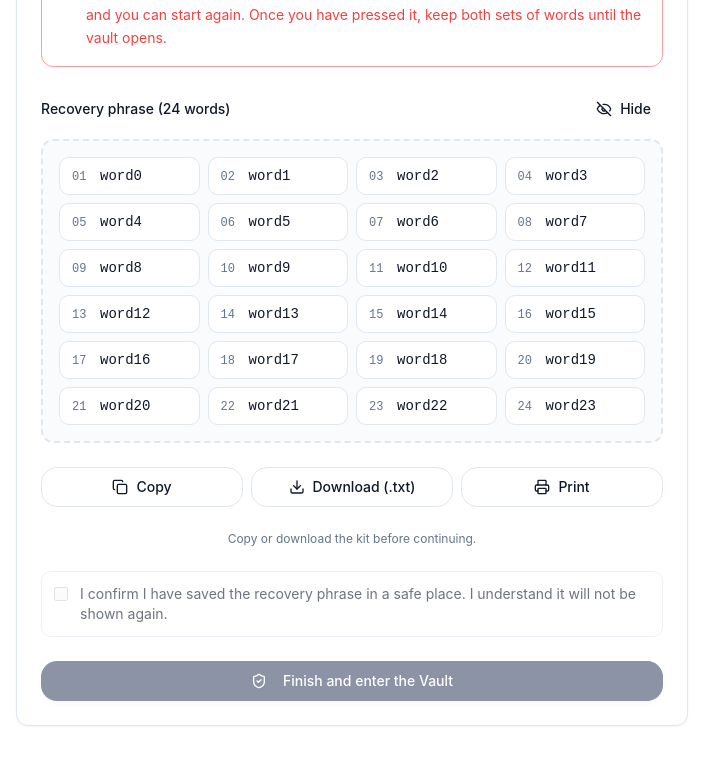
Test: a recovery whose save cannot be confirmed › no longer says that nothing changes and the entered words still work
The image size is (705, 774).
(page scrolled)
Click the button "Copy".
click(142, 486)  # box [41,466,243,506]
(page scrolled)
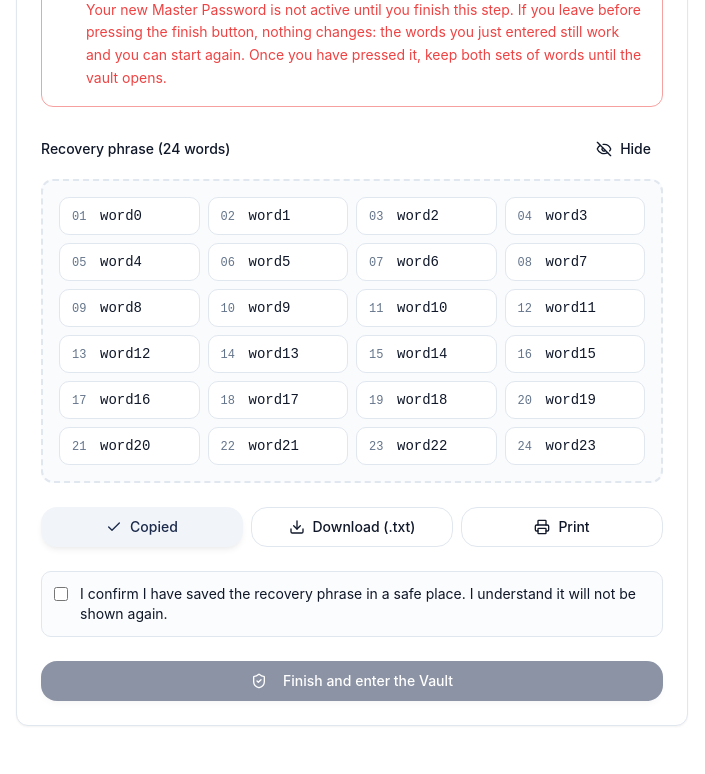
expect the checkbox labelled "I confirm I have saved the recovery phrase" is enabled: met
Click the checkbox labelled "I confirm I have saved the recovery phrase".
click(61, 594)  # box [54,586,68,602]
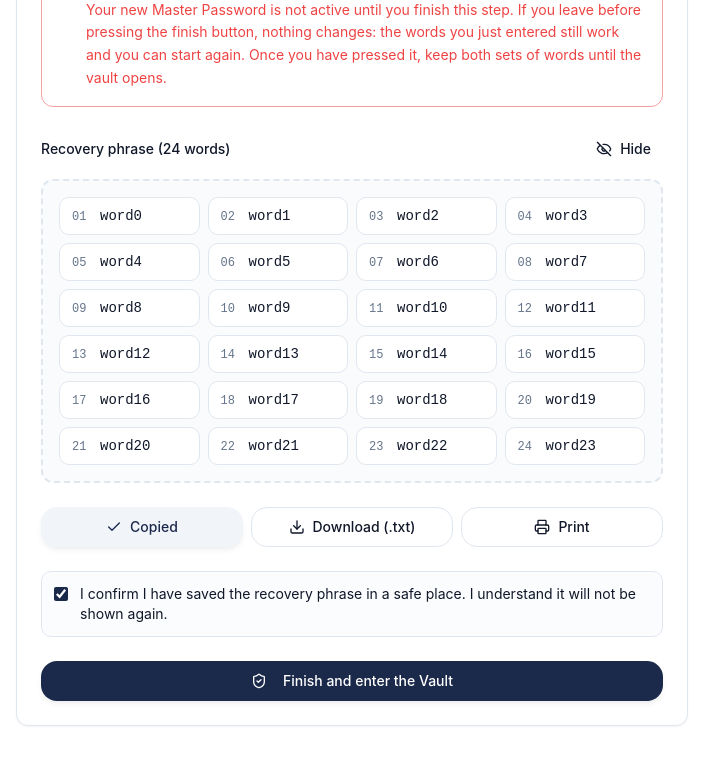
Click the button "Finish and enter the Vault".
click(352, 680)  # box [41,660,663,700]
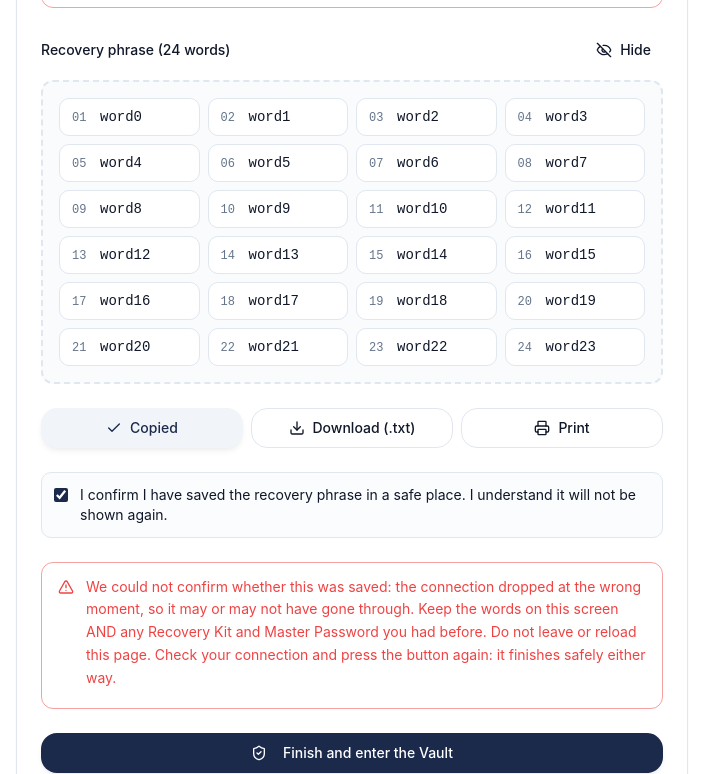
expect the message with test id "recovery-kit-failure" shows "We could not confirm whether this was saved: the connection dropped at the wrong moment, so it may or may not have gone through. Keep the words on this screen A": met, box [86,578,645,686]
